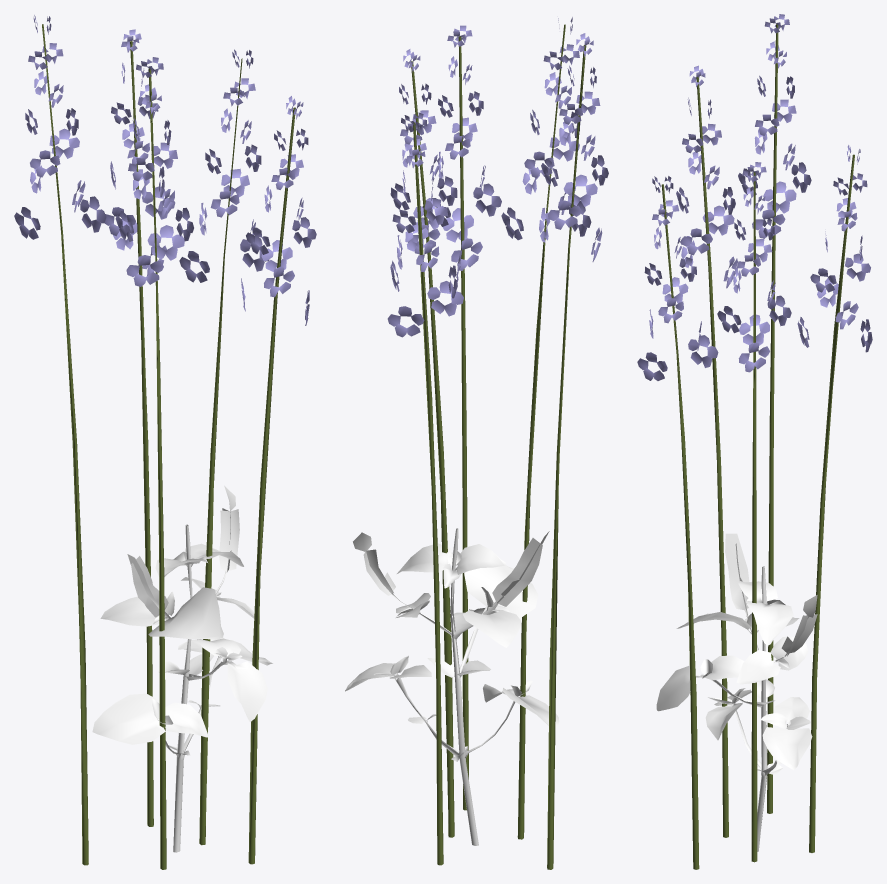
The model's file is flowers-low-packed.glb.
The picture shows the model from 3 angles, left to right: view 1: azimuth 30°, elevation 25°; view 2: azimuth 150°, elevation 25°; view 3: azimuth 270°, elevation 25°; orthographic projection. The views are drawn at different scales.
Parts seen in each view (by area): view 1: purple-flower-spires-low; view 2: purple-flower-spires-low; view 3: purple-flower-spires-low.
Boxes of the visible parts, x1,y1,x2,y2 form: purple-flower-spires-low: (14, 15, 316, 869); purple-flower-spires-low: (345, 17, 608, 869); purple-flower-spires-low: (637, 14, 872, 869).
Size of the model in its own units: 0.221 by 0.7158 by 0.1956.
